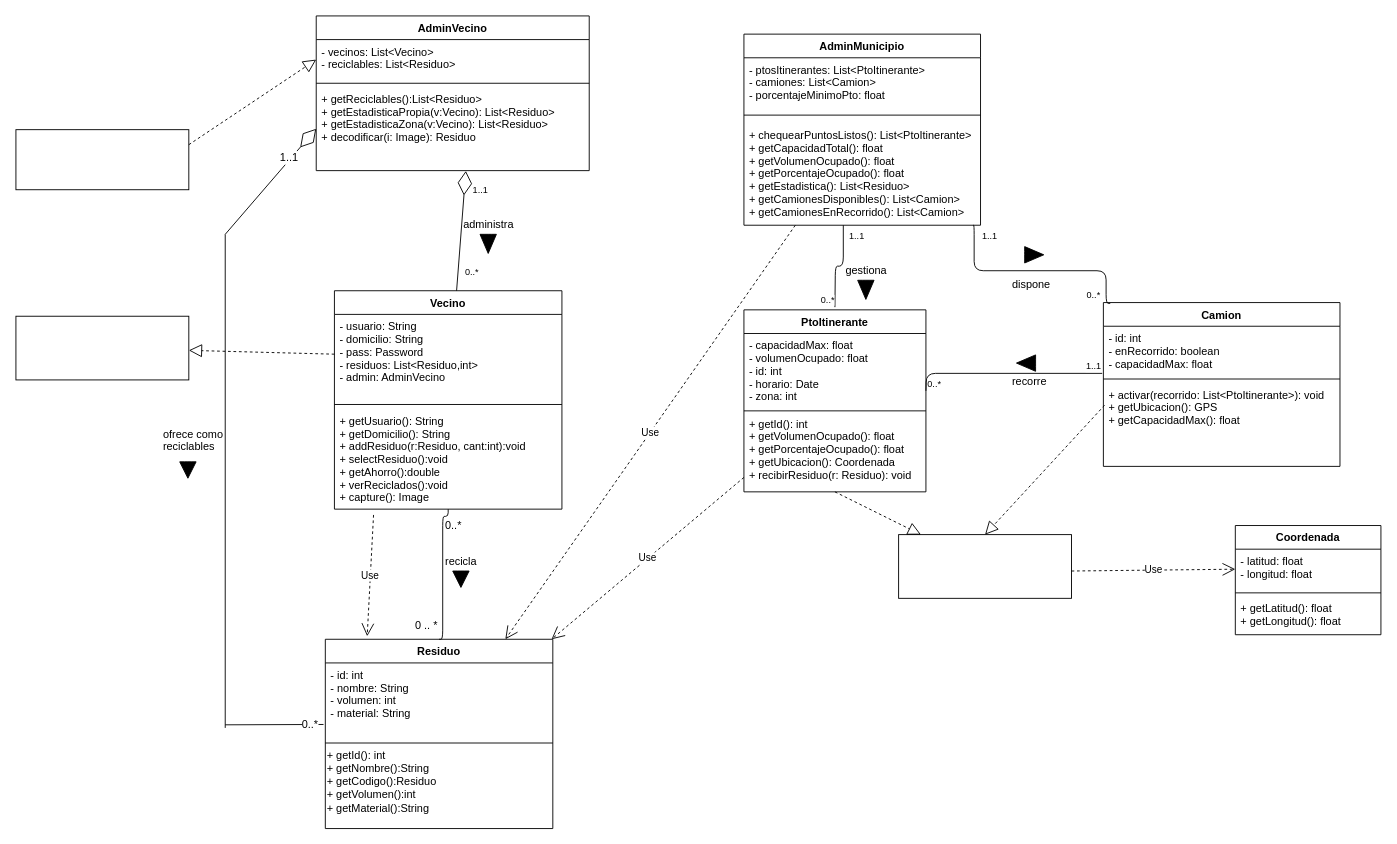
This 1397x844 diagram has some shape labels left out. Each missing label, with the centre of its shape:
<<Interface>> Camera + capture(): Image: the point at 102,347
<<Interface>> GPS + getUbicacion(): Coordenada: the point at 985,566
<<Interface>> LectorDeCodigos + decodificar(i: Image): int: the point at 102,159
